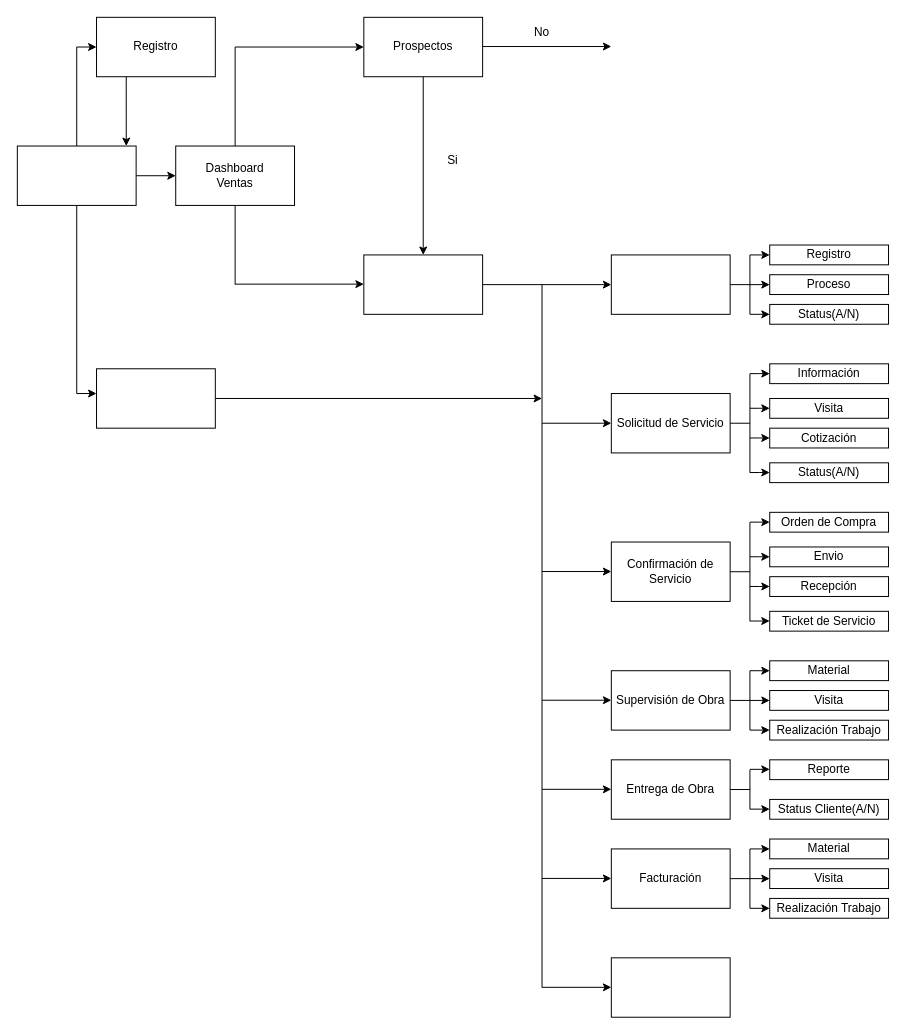
This 906x1035 diagram has some shape labels left out. The shapes that lost their labels are listed below. From the top down, each one's centre as x and y in pixels, then its label:
the point at 76,175: Login
the point at 423,284: Leads(clientes)
the point at 670,284: Solicitud de Crédito
the point at 155,398: Dashboard Cliente
the point at 670,987: Validación
